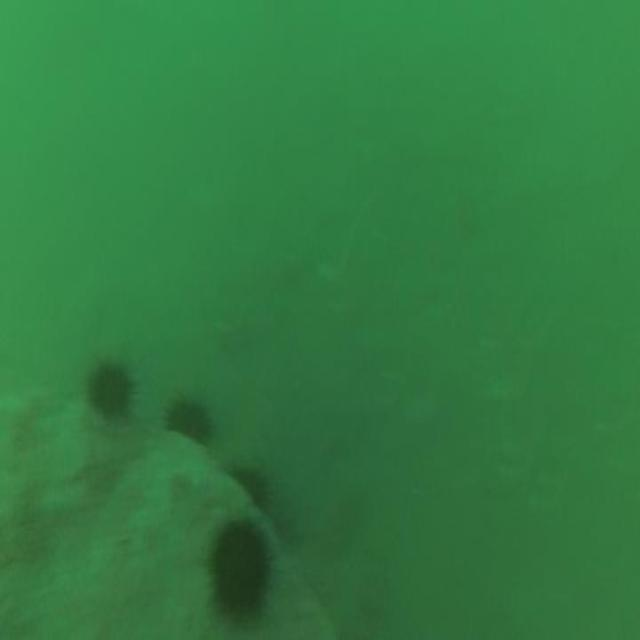echinus: (201, 499, 284, 637), (84, 344, 140, 422), (160, 391, 216, 454)
